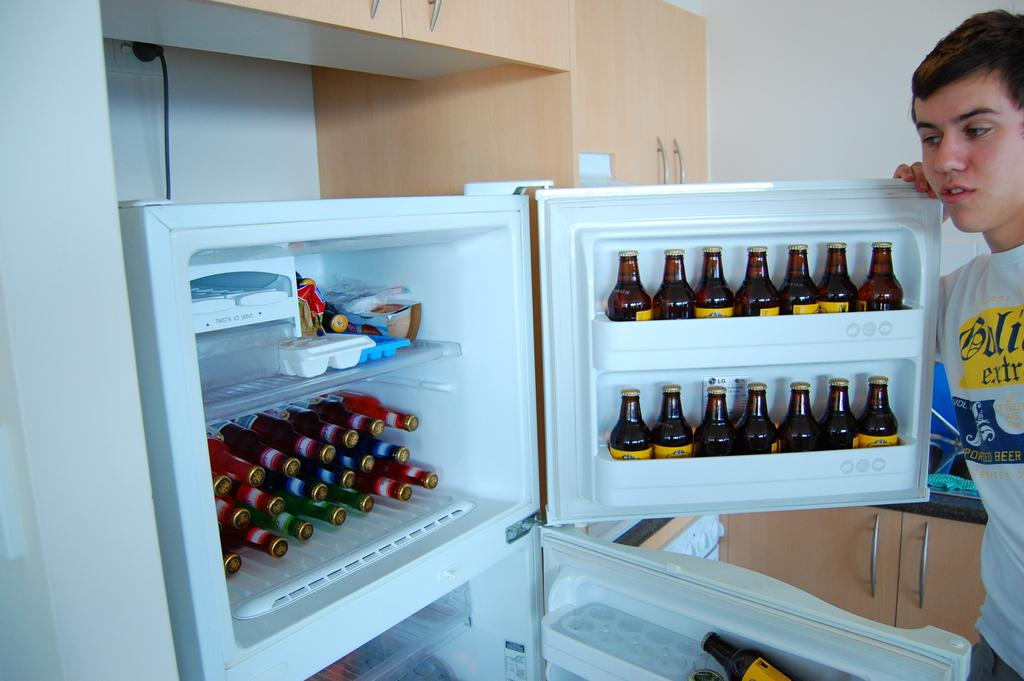cabinet_door: (724, 514, 887, 610), (568, 11, 654, 186), (406, 7, 562, 62), (902, 520, 982, 625), (656, 30, 702, 178)
handle: (900, 524, 937, 615), (852, 518, 884, 608), (644, 140, 670, 181), (665, 138, 687, 186), (428, 2, 445, 40)
